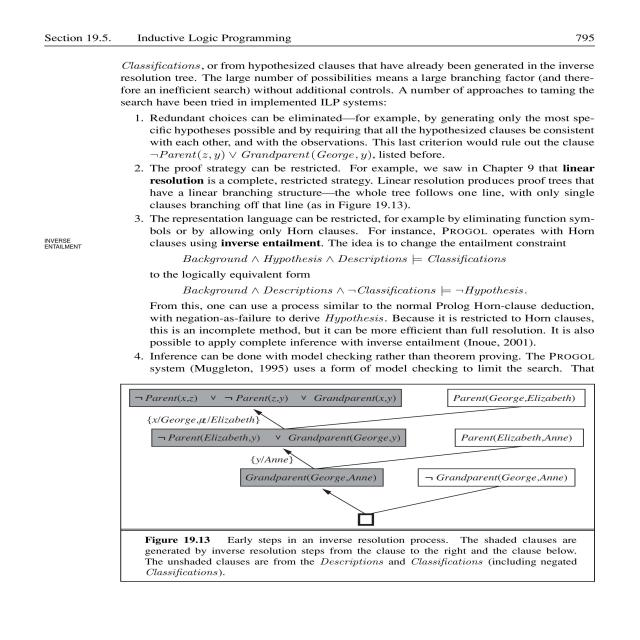diagram: (106, 375, 604, 591)
